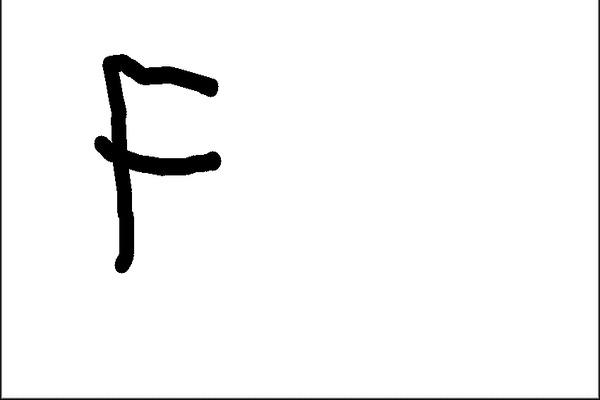F: (89, 50, 224, 275)
